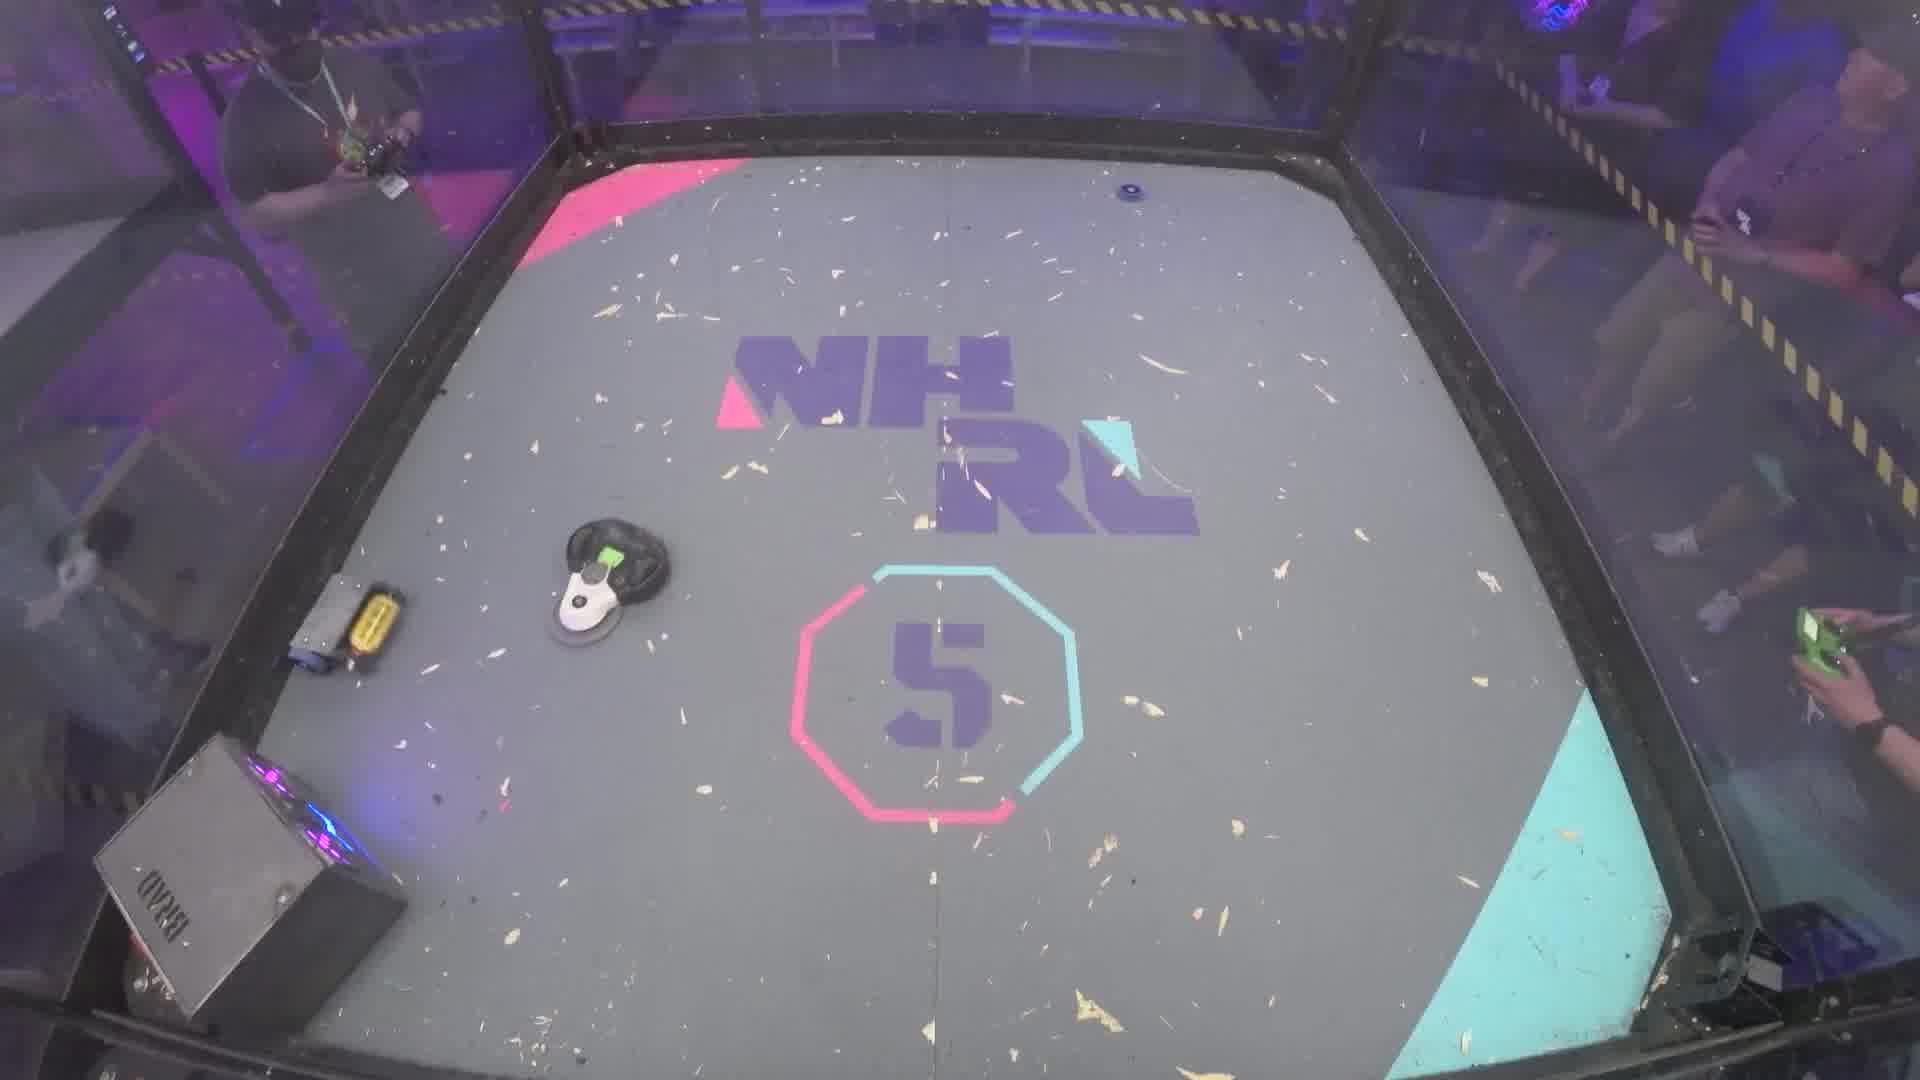combatbot: (550, 517, 675, 644), (281, 575, 413, 683)
housebot: (94, 732, 410, 1036)
minibot: (1113, 181, 1147, 206)
